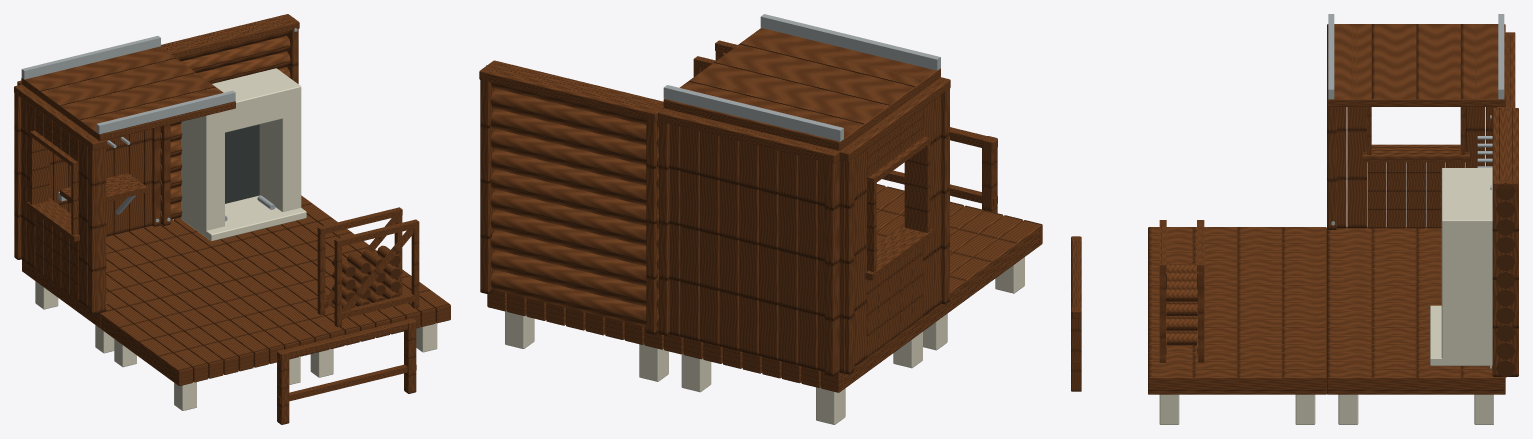
The model's file is modular-survival-base-builder-assembled--83827a1b-starter-scene__24312.glb.
3 views of the same model, side by side, from view 1: azimuth 30°, elevation 25°; view 2: azimuth 150°, elevation 25°; view 3: azimuth 270°, elevation 25° (orthographic). The views are drawn at different scales.
Parts seen in each view (by area): view 1: 006-wall-window-opening/0, 008-masonry-fireplace/0, 001-pier-foundation/1, 007-roof-flat-drained/0, 005-wall-log-stack/0, 010-firewood-wall-rack/0, 000-pier-foundation/1, 003-pier-foundation/1, 002-pier-foundation/1, 004-wall-solid-stud/0, 012-straight-guardrail/0, 007-roof-flat-drained/1 (+5 smaller); view 2: 005-wall-log-stack/0, 004-wall-solid-stud/0, 006-wall-window-opening/0, 007-roof-flat-drained/0, 001-pier-foundation/1, 007-roof-flat-drained/1, 000-pier-foundation/1, 002-pier-foundation/1, 000-pier-foundation/0, 012-straight-guardrail/0, 002-pier-foundation/0, 001-pier-foundation/0 (+1 smaller); view 3: 003-pier-foundation/1, 007-roof-flat-drained/0, 006-wall-window-opening/0, 002-pier-foundation/1, 001-pier-foundation/1, 008-masonry-fireplace/0, 000-pier-foundation/1, 005-wall-log-stack/0, 010-firewood-wall-rack/0, 012-straight-guardrail/0, 003-pier-foundation/0, 002-pier-foundation/0 (+2 smaller).
Part boxes in pixels (x1=…): 006-wall-window-opening/0: x1=14, y1=84, x2=106, y2=314; 008-masonry-fireplace/0: x1=181, y1=68, x2=306, y2=241; 001-pier-foundation/1: x1=100, y1=280, x2=314, y2=386; 007-roof-flat-drained/0: x1=21, y1=46, x2=235, y2=141; 005-wall-log-stack/0: x1=160, y1=14, x2=299, y2=225; 010-firewood-wall-rack/0: x1=317, y1=207, x2=419, y2=327; 000-pier-foundation/1: x1=22, y1=225, x2=235, y2=328; 003-pier-foundation/1: x1=237, y1=249, x2=450, y2=352; 002-pier-foundation/1: x1=160, y1=195, x2=369, y2=280; 004-wall-solid-stud/0: x1=17, y1=80, x2=160, y2=236; 012-straight-guardrail/0: x1=277, y1=318, x2=416, y2=424; 007-roof-flat-drained/1: x1=21, y1=36, x2=235, y2=134; 005-wall-log-stack/0: x1=479, y1=60, x2=663, y2=334; 004-wall-solid-stud/0: x1=658, y1=108, x2=839, y2=376; 006-wall-window-opening/0: x1=839, y1=77, x2=950, y2=374; 007-roof-flat-drained/0: x1=663, y1=28, x2=940, y2=150; 001-pier-foundation/1: x1=876, y1=184, x2=1042, y2=317; 007-roof-flat-drained/1: x1=663, y1=14, x2=940, y2=141; 000-pier-foundation/1: x1=664, y1=304, x2=940, y2=392; 002-pier-foundation/1: x1=487, y1=290, x2=663, y2=349; 000-pier-foundation/0: x1=681, y1=332, x2=922, y2=424; 012-straight-guardrail/0: x1=882, y1=127, x2=997, y2=213; 002-pier-foundation/0: x1=505, y1=310, x2=668, y2=381; 001-pier-foundation/0: x1=923, y1=257, x2=1024, y2=350; 003-pier-foundation/1: x1=1148, y1=302, x2=1326, y2=394; 007-roof-flat-drained/0: x1=1327, y1=24, x2=1505, y2=106; 006-wall-window-opening/0: x1=1327, y1=107, x2=1495, y2=229; 002-pier-foundation/1: x1=1327, y1=302, x2=1505, y2=394; 001-pier-foundation/1: x1=1148, y1=227, x2=1326, y2=303; 008-masonry-fireplace/0: x1=1430, y1=168, x2=1492, y2=365; 000-pier-foundation/1: x1=1327, y1=227, x2=1441, y2=302; 005-wall-log-stack/0: x1=1492, y1=107, x2=1518, y2=377; 010-firewood-wall-rack/0: x1=1159, y1=220, x2=1204, y2=362; 012-straight-guardrail/0: x1=1071, y1=236, x2=1081, y2=391; 003-pier-foundation/0: x1=1159, y1=394, x2=1315, y2=424; 002-pier-foundation/0: x1=1338, y1=394, x2=1493, y2=424.
Size of the model in its own units: 4.14 by 3.27 by 5.01.
4 materials, 1 textured.
